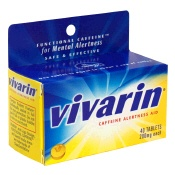grozi_89: (7, 10, 168, 165)
